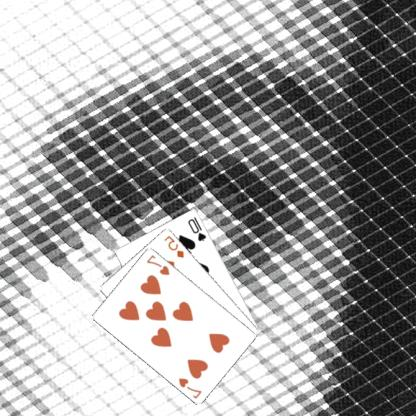10S: (187, 214, 209, 242)
5D: (164, 232, 188, 259)
7H: (177, 375, 205, 400), (145, 252, 173, 276)
